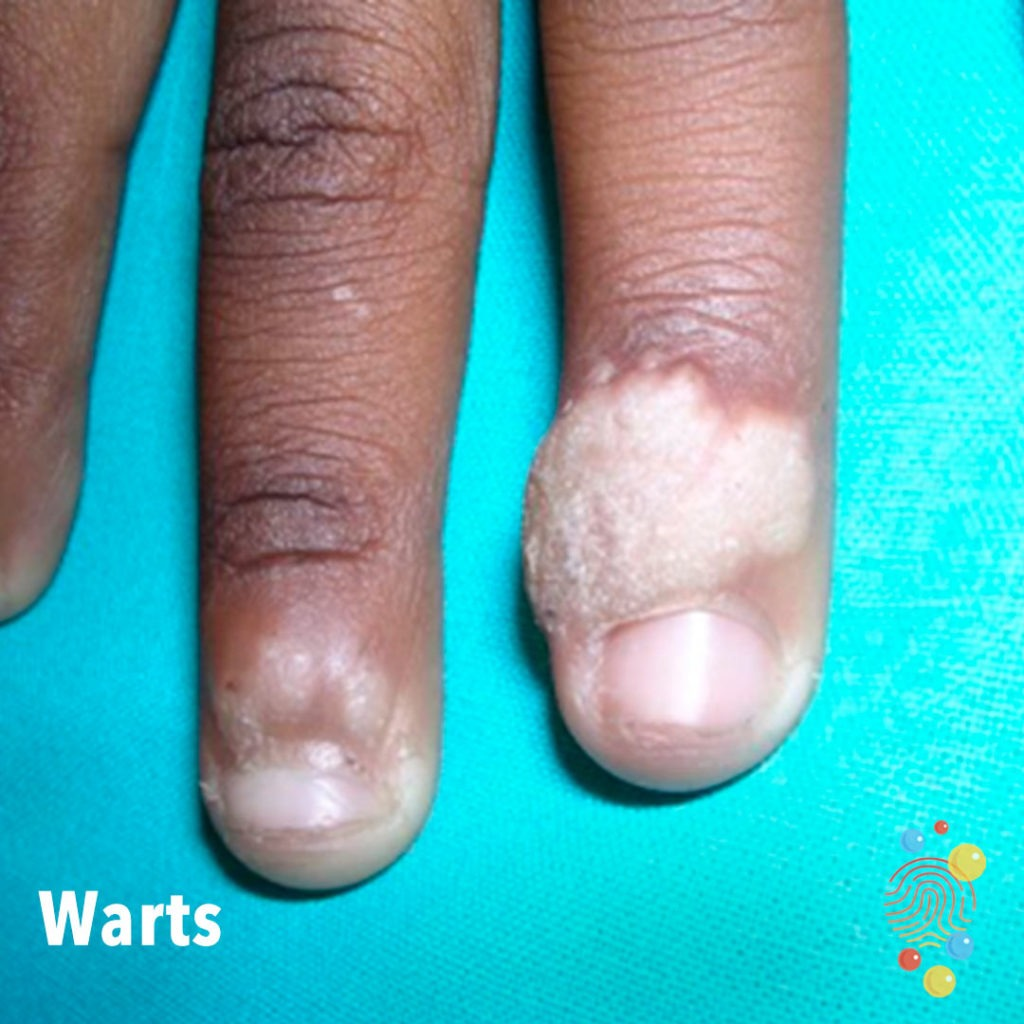Warts: (189, 295, 834, 815)
